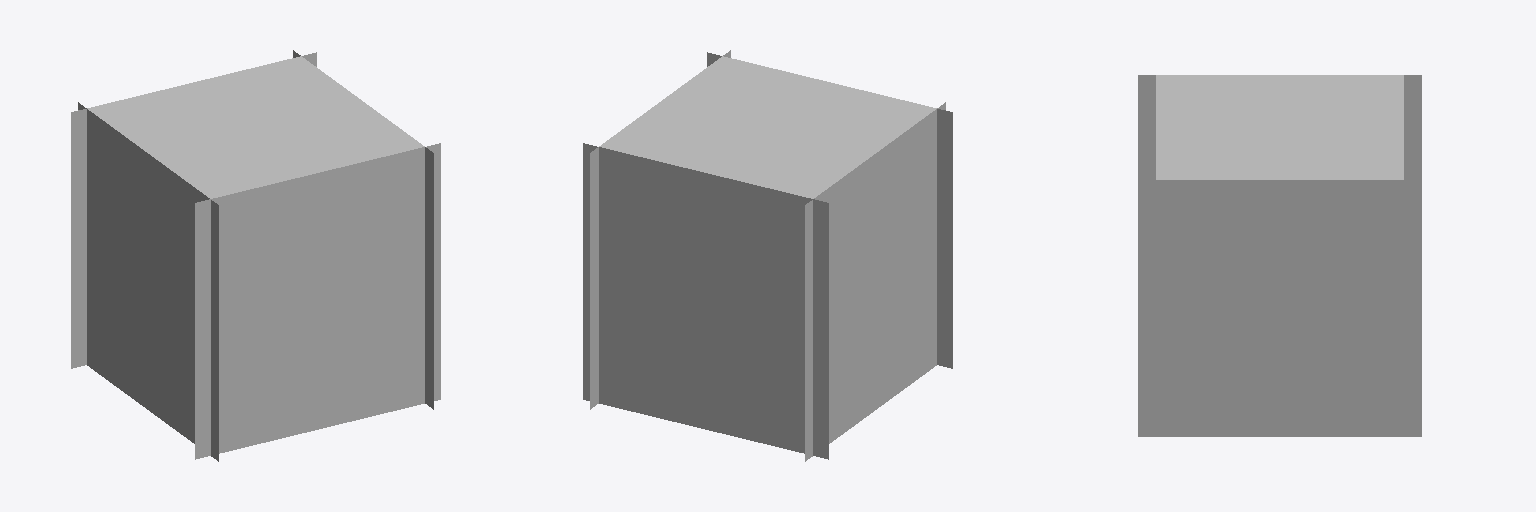
Rendered from 081-cactus.obj.
3 views of the same model, side by side, from view 1: azimuth 30°, elevation 25°; view 2: azimuth 150°, elevation 25°; view 3: azimuth 270°, elevation 25° (orthographic).
Parts seen in each view (by area): view 1: Cube; view 2: Cube; view 3: Cube.
Boxes of the visible parts, box(x1,y1,x2,y2) form: Cube: box(71, 50, 440, 461); Cube: box(583, 50, 952, 461); Cube: box(1138, 75, 1421, 436).
Size of the model in its own units: 1 by 1 by 1.